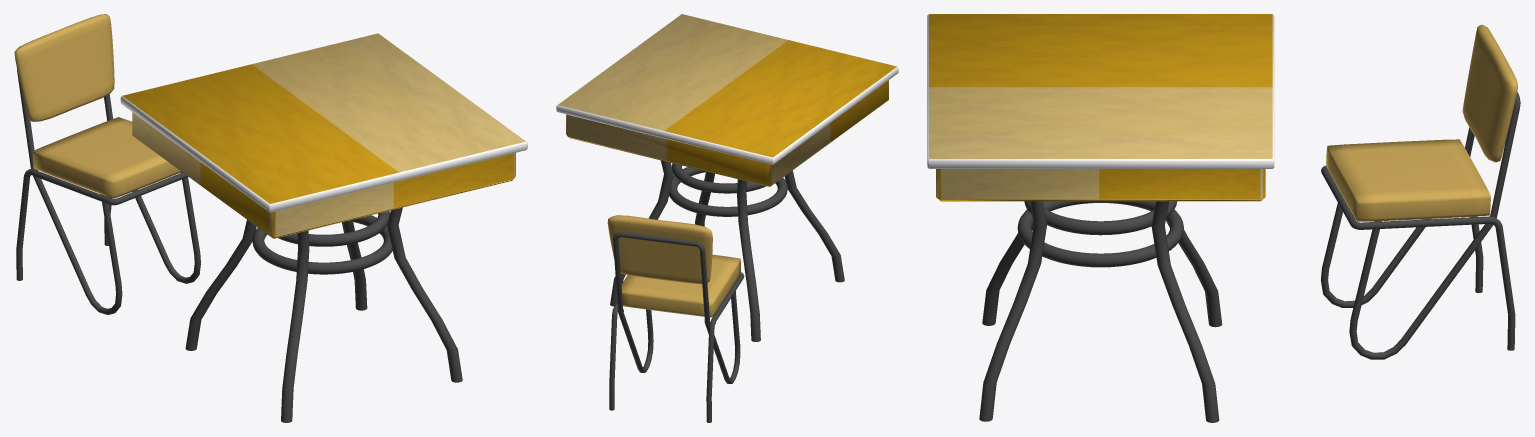
Rendered from armchair_and_table2.glb.
The picture shows the model from 3 angles, left to right: view 1: azimuth 30°, elevation 25°; view 2: azimuth 150°, elevation 25°; view 3: azimuth 270°, elevation 25°; orthographic projection. The views are drawn at different scales.
Visible parts, largest first — view 1: taula_rodona.001_Cube.033, potas_taularodona.001_Tube.001, cadiregrogue.002_Cube.004, cadiregrogue.001_Cube.002, cadiregroge_pot_Cube.003; view 2: taula_rodona.001_Cube.033, potas_taularodona.001_Tube.001, cadiregrogue.002_Cube.004, cadiregroge_pot_Cube.003, cadiregrogue.001_Cube.002; view 3: taula_rodona.001_Cube.033, potas_taularodona.001_Tube.001, cadiregrogue.001_Cube.002, cadiregroge_pot_Cube.003, cadiregrogue.002_Cube.004.
Part boxes in pixels (box(x1,y1,x2,y2)): taula_rodona.001_Cube.033: box(120, 33, 527, 238); potas_taularodona.001_Tube.001: box(185, 207, 462, 422); cadiregrogue.002_Cube.004: box(14, 14, 114, 121); cadiregrogue.001_Cube.002: box(33, 117, 181, 198); cadiregroge_pot_Cube.003: box(16, 69, 200, 314); taula_rodona.001_Cube.033: box(556, 14, 898, 186); potas_taularodona.001_Tube.001: box(610, 160, 844, 341); cadiregrogue.002_Cube.004: box(607, 215, 712, 284); cadiregroge_pot_Cube.003: box(609, 232, 744, 422); cadiregrogue.001_Cube.002: box(621, 254, 740, 317); taula_rodona.001_Cube.033: box(927, 14, 1274, 201); potas_taularodona.001_Tube.001: box(979, 201, 1222, 422); cadiregrogue.001_Cube.002: box(1326, 139, 1490, 221); cadiregroge_pot_Cube.003: box(1321, 92, 1520, 359); cadiregrogue.002_Cube.004: box(1462, 24, 1517, 162).
Bounding box in the file's own units: 1.06 × 0.9088 × 1.71.
Materials: 5 (3 with a texture image).
